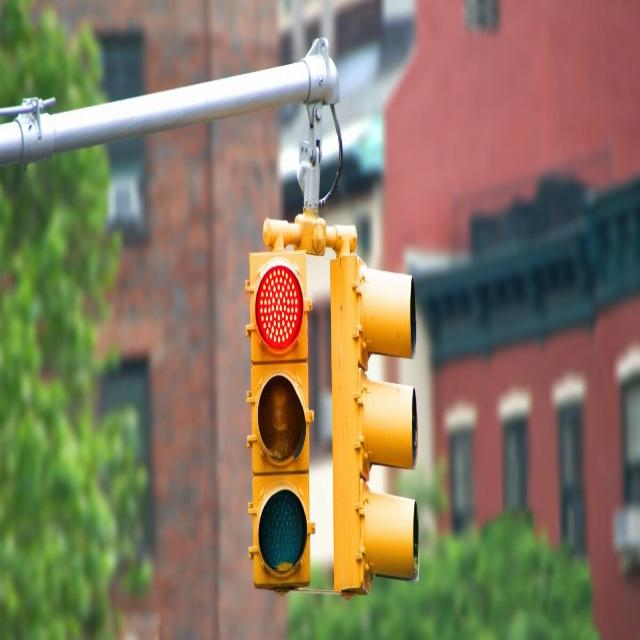red: (254, 258, 312, 580)
